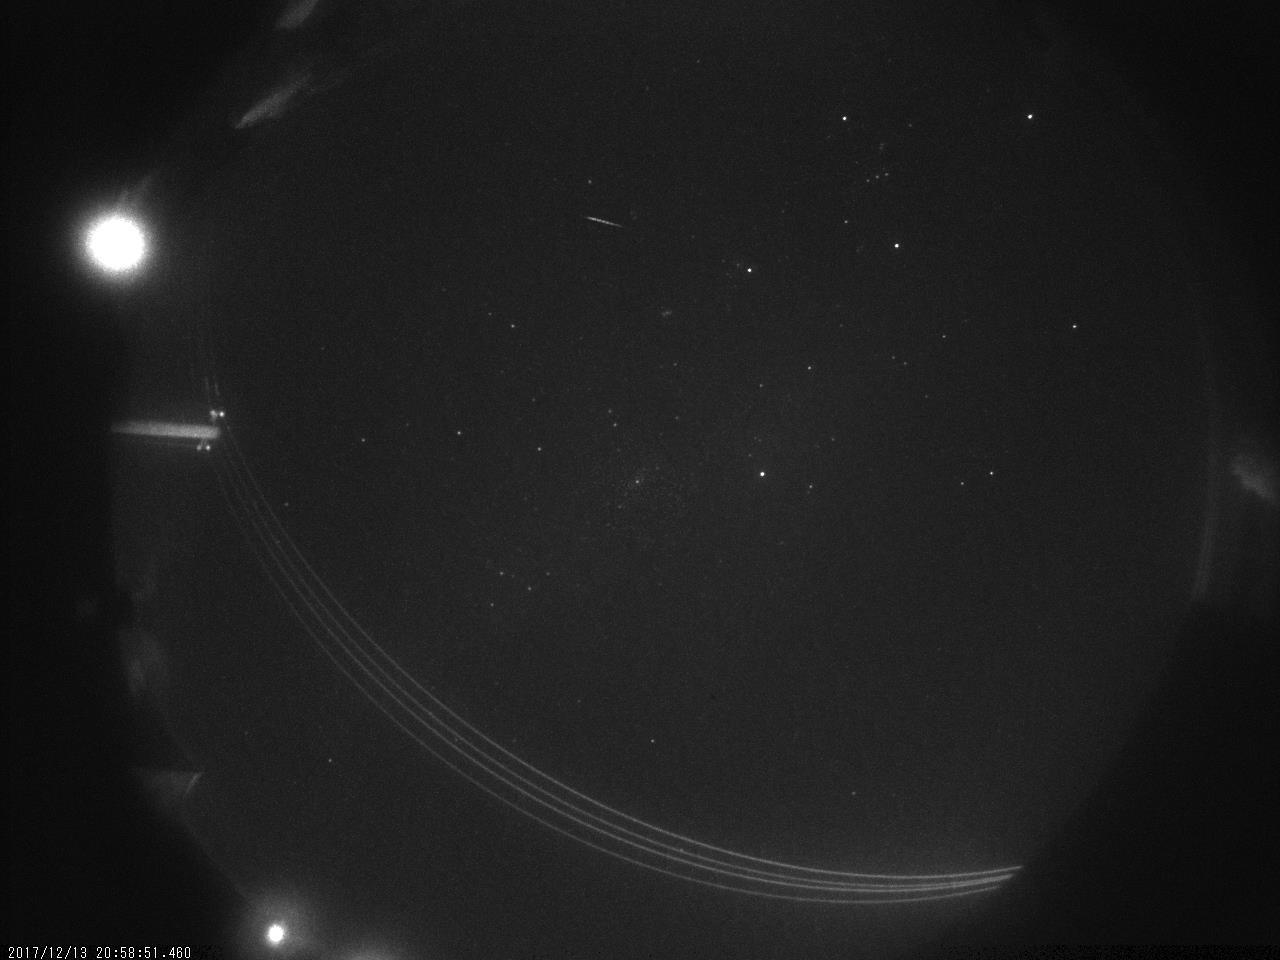Meteor: (576, 207, 629, 237)
